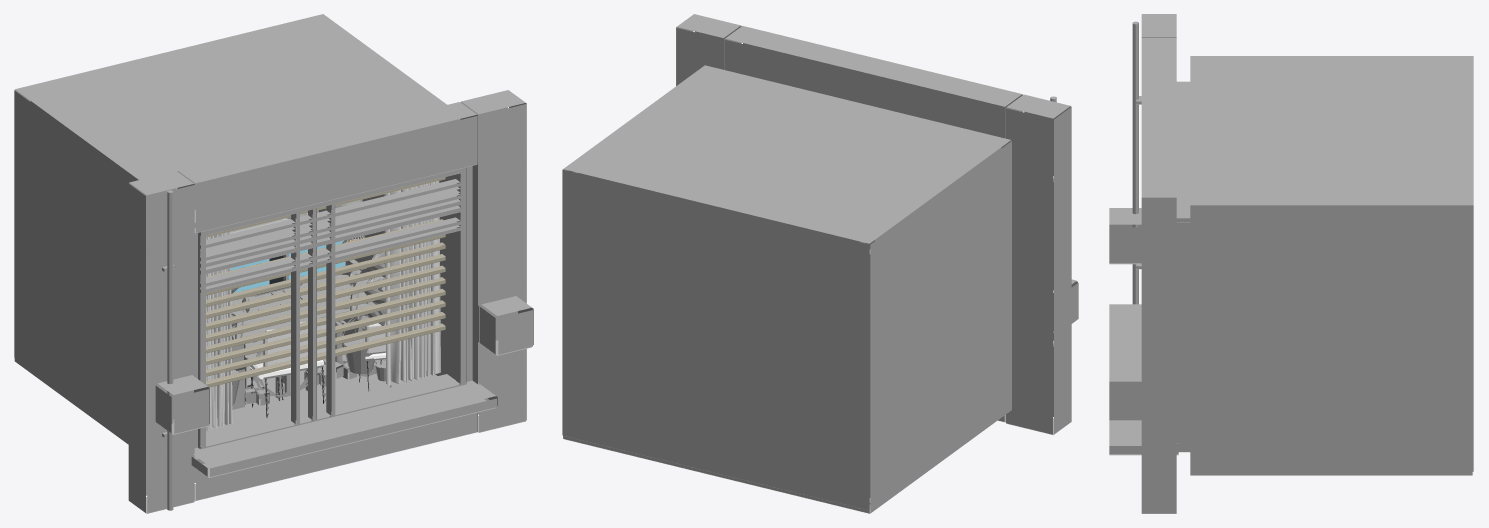
The model's file is sixteen.glb.
3 views of the same model, side by side, from view 1: azimuth 30°, elevation 25°; view 2: azimuth 150°, elevation 25°; view 3: azimuth 270°, elevation 25° (orthographic).
Visible parts, largest first — view 1: room_018_static, room_021_static, room_019_static, room_021_blind_panel.001, room_043_static, room_020_static, room_044_static, room_034_static, room_029_static, room_026_static, room_020_curtain_right.001, room_045_static (+8 smaller); view 2: room_018_static, room_019_static, room_021_static, room_043_static; view 3: room_018_static, room_019_static, room_021_static, room_043_static, room_034_static, room_044_static, room_042_static.
Boxes of the visible parts, x1,y1,x2,y2 form: room_018_static: (14, 14, 526, 513); room_021_static: (14, 18, 524, 512); room_019_static: (14, 14, 526, 513); room_021_blind_panel.001: (206, 177, 445, 387); room_043_static: (139, 102, 481, 512); room_020_static: (200, 193, 464, 416); room_044_static: (169, 192, 460, 510); room_034_static: (231, 213, 533, 411); room_029_static: (200, 207, 461, 390); room_026_static: (167, 178, 460, 399); room_020_curtain_right.001: (384, 182, 436, 385); room_045_static: (200, 199, 460, 406); room_018_static: (562, 14, 1071, 513); room_019_static: (563, 14, 1060, 513); room_021_static: (569, 15, 1078, 504); room_043_static: (562, 26, 1078, 456); room_018_static: (1109, 14, 1473, 513); room_019_static: (1109, 14, 1473, 512); room_021_static: (1109, 14, 1473, 513); room_043_static: (1109, 21, 1278, 458); room_034_static: (1109, 364, 1141, 421); room_044_static: (1132, 23, 1138, 304); room_042_static: (1133, 23, 1138, 304).
Bounding box in the file's own units: 4.3 × 3.45 × 3.62.
